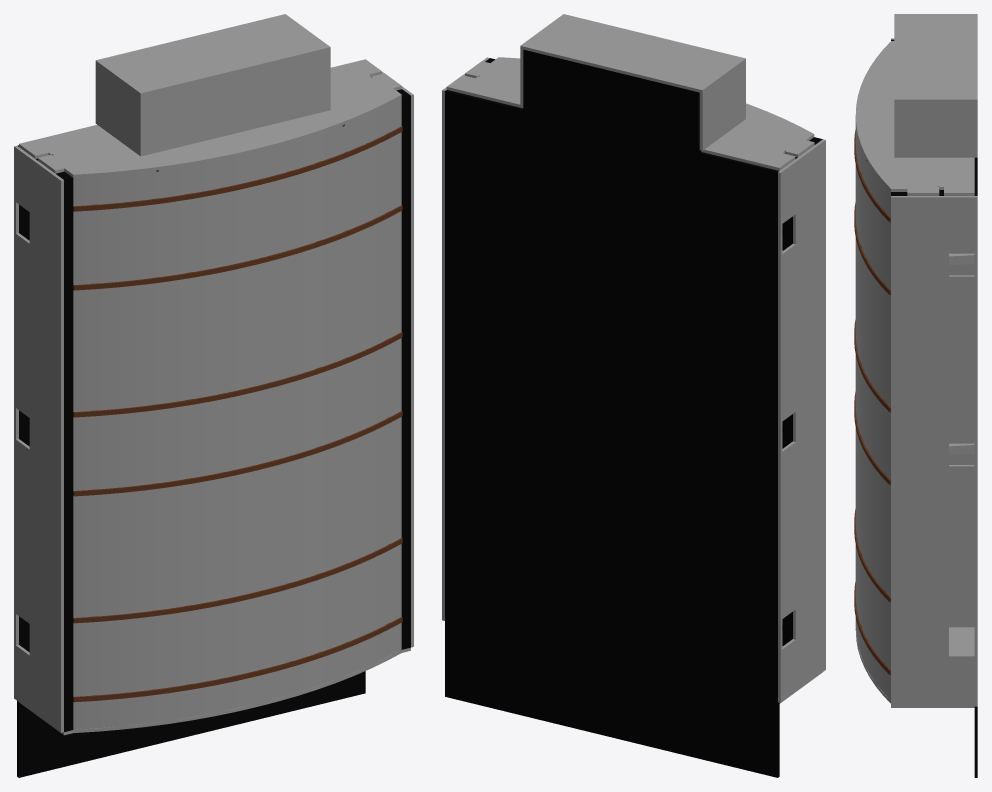
Rendered from Gym.fbx.
3 views of the same model, side by side, from view 1: azimuth 30°, elevation 25°; view 2: azimuth 150°, elevation 25°; view 3: azimuth 270°, elevation 25° (orthographic). The views are drawn at different scales.
Visible parts, largest first — view 1: Body127, Side Wall, Body124, Wall Butai, Floor 35mx23m, Hari1, Hari1 (1), Hari2 (1), Hari2, Hari2 (1) (1), Hari2 (2), Hari2 (1) (2) (+3 smaller); view 2: Floor 35mx23m, Side Wall, Body124, Wall Butai, Side Wall (1), Rouka1; view 3: Side Wall (1), Body127, Body124, Wall Butai, Body125, Side Wall, Floor 35mx23m, Hari2, Hari2 (1) (1), Hari2 (2), Hari2 (1) (2), Hari2 (1) (+3 smaller).
Boxes of the visible parts, x1=… form: Body127: x1=73, y1=98, x2=401, y2=729; Side Wall: x1=14, y1=146, x2=63, y2=732; Body124: x1=95, y1=14, x2=330, y2=156; Wall Butai: x1=19, y1=59, x2=401, y2=177; Floor 35mx23m: x1=17, y1=145, x2=365, y2=777; Hari1: x1=56, y1=171, x2=73, y2=731; Hari1 (1): x1=396, y1=89, x2=410, y2=649; Hari2 (1): x1=73, y1=205, x2=402, y2=290; Hari2: x1=73, y1=126, x2=402, y2=211; Hari2 (1) (1): x1=73, y1=332, x2=402, y2=417; Hari2 (2): x1=73, y1=617, x2=402, y2=702; Hari2 (1) (2): x1=73, y1=538, x2=402, y2=623; Floor 35mx23m: x1=445, y1=49, x2=779, y2=777; Side Wall: x1=778, y1=139, x2=825, y2=702; Body124: x1=520, y1=14, x2=745, y2=150; Wall Butai: x1=446, y1=57, x2=814, y2=170; Side Wall (1): x1=442, y1=57, x2=489, y2=620; Rouka1: x1=782, y1=153, x2=797, y2=645; Side Wall (1): x1=891, y1=196, x2=977, y2=706; Body127: x1=855, y1=119, x2=890, y2=700; Body124: x1=894, y1=14, x2=977, y2=157; Wall Butai: x1=855, y1=41, x2=974, y2=195; Body125: x1=855, y1=627, x2=974, y2=707; Side Wall: x1=891, y1=38, x2=974, y2=464; Floor 35mx23m: x1=974, y1=157, x2=977, y2=777; Hari2: x1=854, y1=130, x2=890, y2=222; Hari2 (1) (1): x1=854, y1=320, x2=890, y2=412; Hari2 (2): x1=854, y1=582, x2=890, y2=674; Hari2 (1) (2): x1=854, y1=509, x2=890, y2=602; Hari2 (1): x1=854, y1=202, x2=890, y2=294.
Size of the model in its own units: 23400 by 44200 by 7700.
